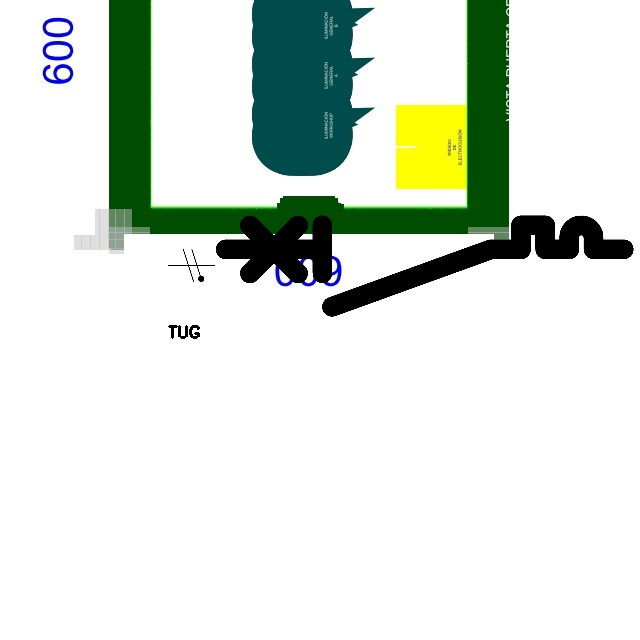interruptor_termomagnetico: (215, 215, 634, 317)
